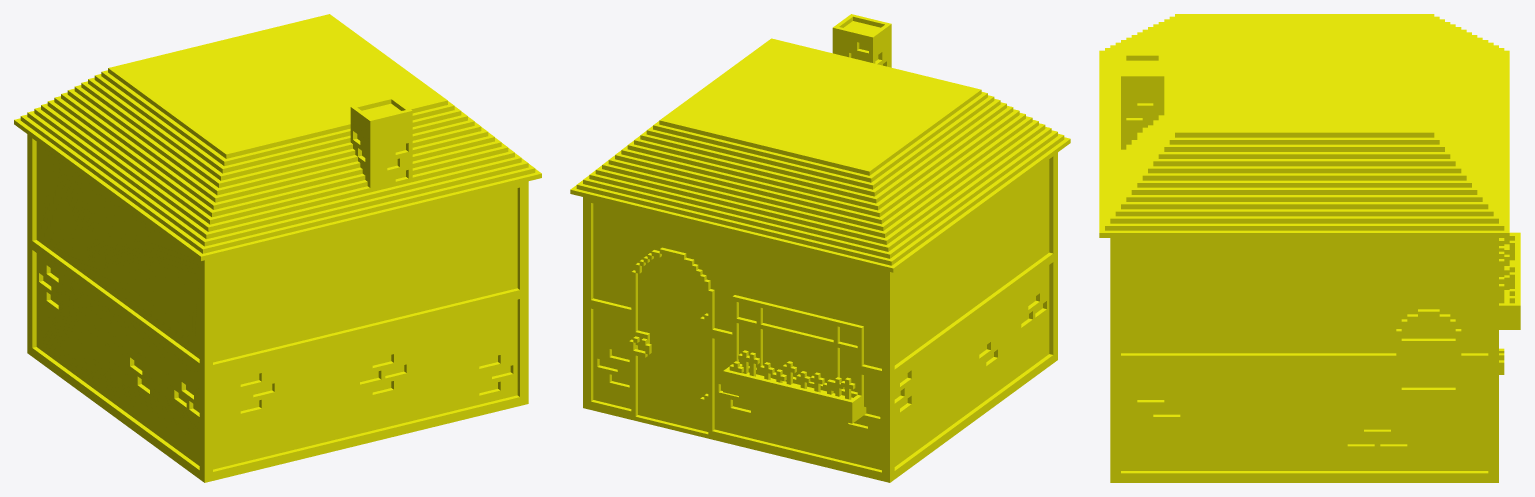
File: voxel-village-house.glb
The picture shows the model from 3 angles, left to right: view 1: azimuth 30°, elevation 25°; view 2: azimuth 150°, elevation 25°; view 3: azimuth 270°, elevation 25°; orthographic projection. The views are drawn at different scales.
Visible parts, largest first — view 1: VS_Villagers_House; view 2: VS_Villagers_House; view 3: VS_Villagers_House.
Boxes of the visible parts, <box> form: VS_Villagers_House: <box>14,14,541,482</box>; VS_Villagers_House: <box>570,14,1070,482</box>; VS_Villagers_House: <box>1099,14,1520,482</box>.
Bounding box in the file's own units: 8 × 7.1 × 7.8.
